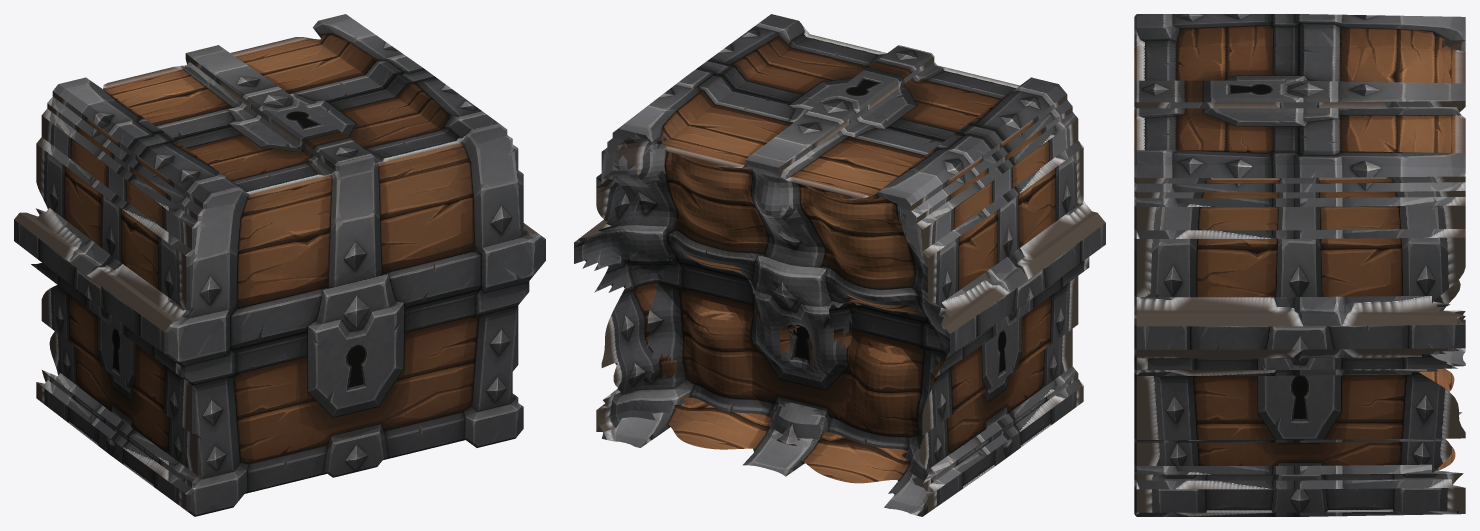
The model's file is SM_Dungeon_Chest_A.glb.
3 views of the same model, side by side, from view 1: azimuth 30°, elevation 25°; view 2: azimuth 150°, elevation 25°; view 3: azimuth 270°, elevation 25° (orthographic). The views are drawn at different scales.
Visible parts, largest first — view 1: SM_Dungeon_Chest_A_Raw; view 2: SM_Dungeon_Chest_A_Raw; view 3: SM_Dungeon_Chest_A_Raw.
Boxes of the visible parts, bbox=[...] form: SM_Dungeon_Chest_A_Raw: bbox=[14, 14, 545, 516]; SM_Dungeon_Chest_A_Raw: bbox=[574, 14, 1105, 516]; SM_Dungeon_Chest_A_Raw: bbox=[1134, 14, 1465, 516].
Bounding box in the file's own units: 1 × 0.8 × 0.7.
Materials: 1 (1 with a texture image).
